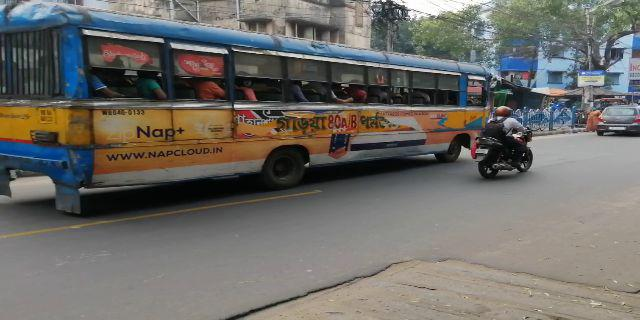Bus: (1, 21, 483, 197)
Car: (594, 99, 639, 141)
Motorbike: (472, 109, 535, 176)
